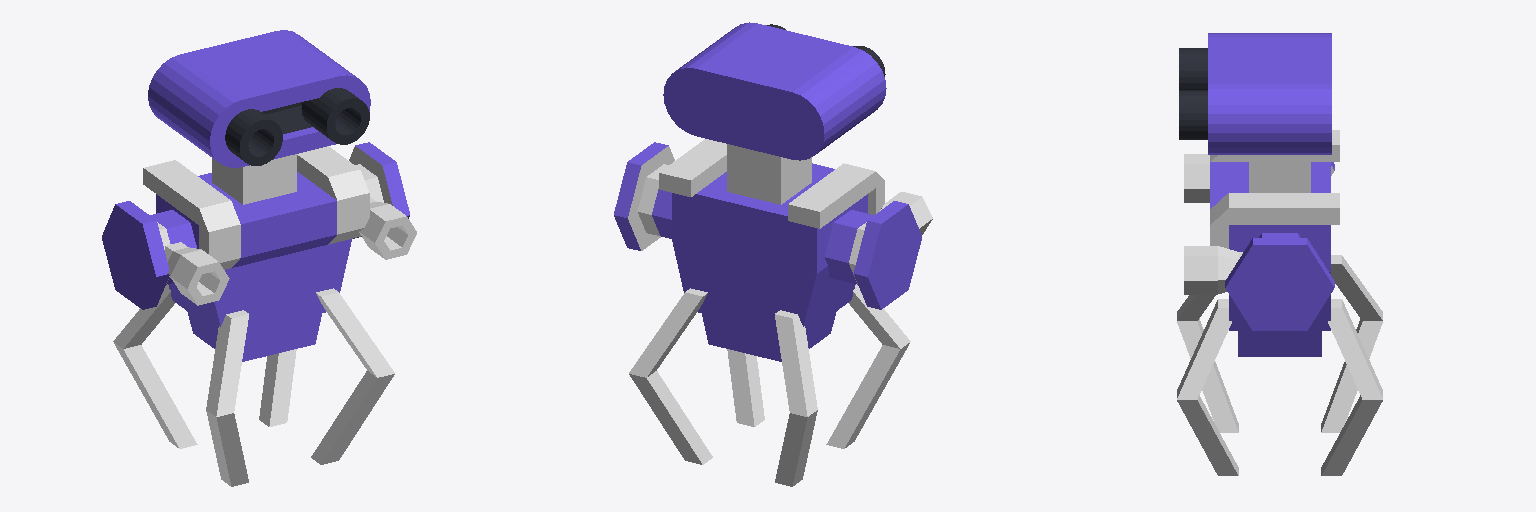
File: walking_03_00.obj
3 views of the same model, side by side, from view 1: azimuth 30°, elevation 25°; view 2: azimuth 150°, elevation 25°; view 3: azimuth 270°, elevation 25° (orthographic).
Visible parts, largest first — view 1: mergedBlocks; view 2: mergedBlocks; view 3: mergedBlocks.
Part boxes in pixels (left/top/right/bottom): mergedBlocks: left=102, top=30, right=416, bottom=486; mergedBlocks: left=614, top=22, right=932, bottom=486; mergedBlocks: left=1177, top=33, right=1382, bottom=475.
Size of the model in its own units: 1.42 by 2.08 by 1.